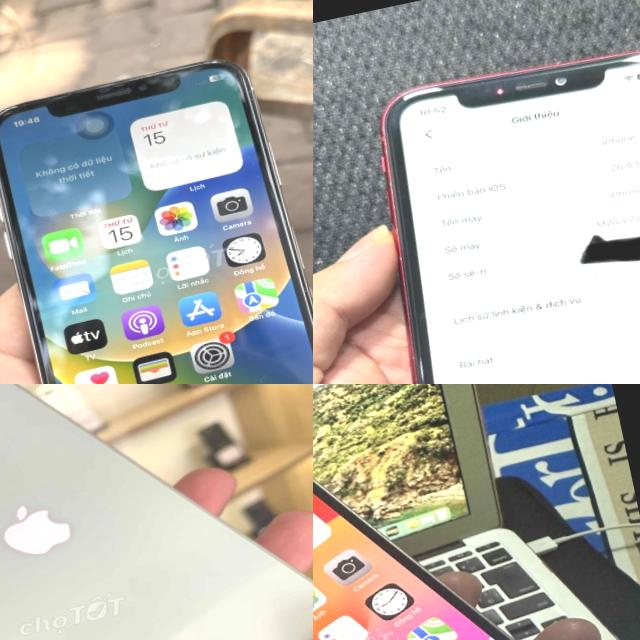gen_11: (381, 53, 640, 384)
gen_12_13: (313, 384, 640, 640)
gen_15: (0, 384, 313, 640)
gen_x_xs: (0, 33, 313, 384)
scratch: (381, 268, 449, 384)
